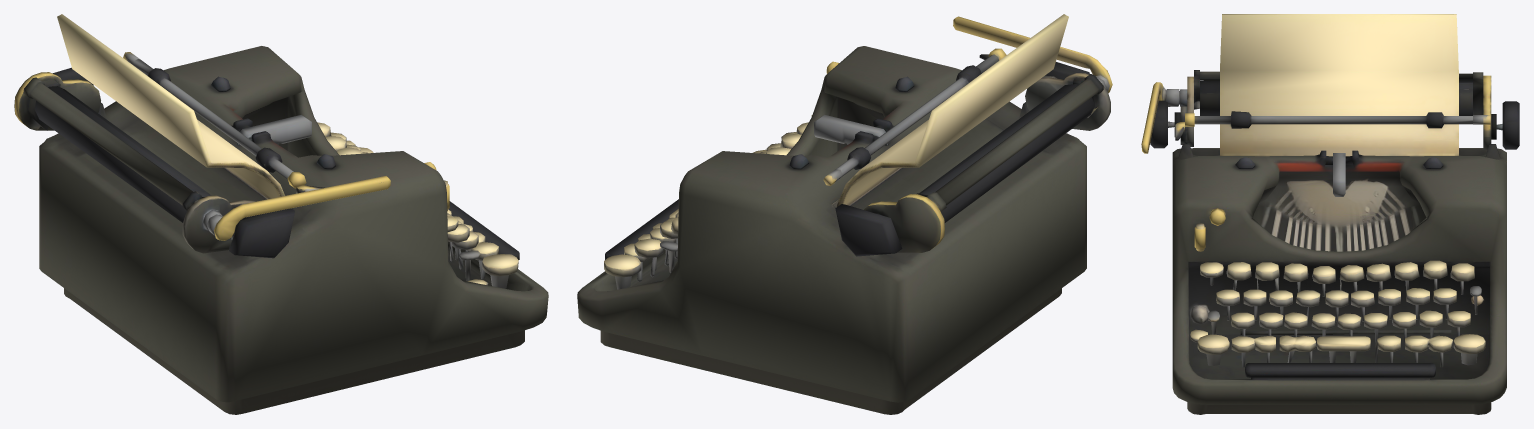
Rendered from typewriter.obj.
The picture shows the model from 3 angles, left to right: view 1: azimuth 30°, elevation 25°; view 2: azimuth 150°, elevation 25°; view 3: azimuth 270°, elevation 25°; orthographic projection. The views are drawn at different scales.
Bounding box in the file's own units: 0.5201 × 0.4 × 0.5201.
Materials: 1 (1 with a texture image).
